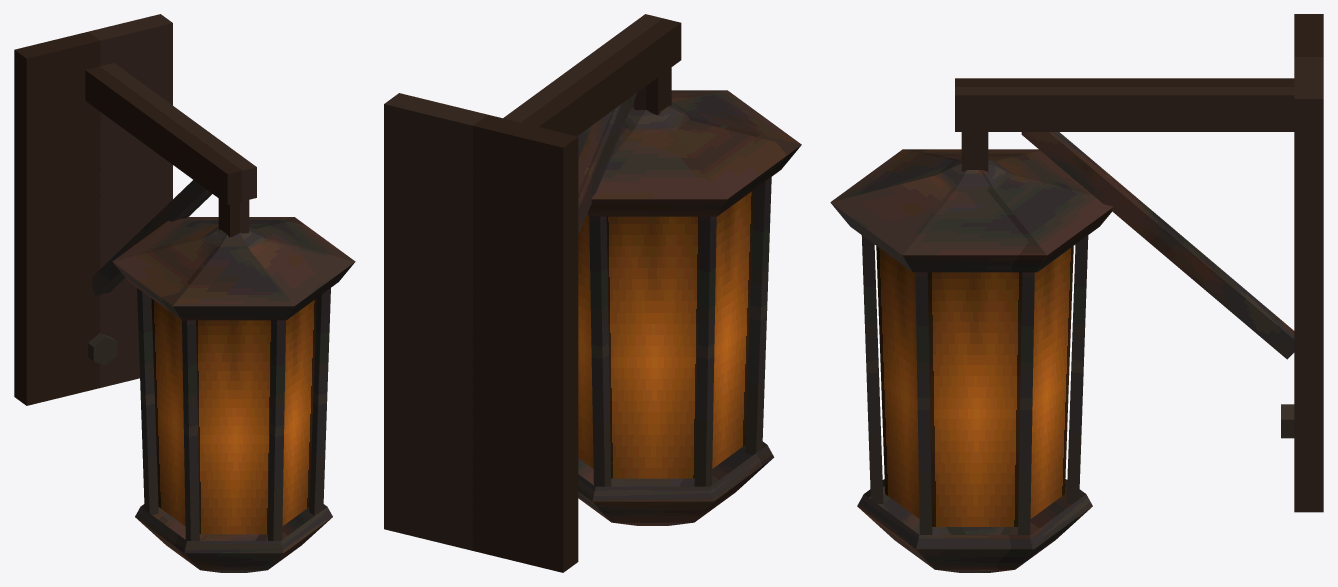
Rendered from WallLantern.fbx.
The picture shows the model from 3 angles, left to right: view 1: azimuth 30°, elevation 25°; view 2: azimuth 150°, elevation 25°; view 3: azimuth 270°, elevation 25°; orthographic projection. The views are drawn at different scales.
Visible parts, largest first — view 1: WallLantern; view 2: WallLantern; view 3: WallLantern.
Boxes of the visible parts, left/top/right/bottom form: WallLantern: left=14, top=14, right=355, bottom=572; WallLantern: left=384, top=14, right=801, bottom=572; WallLantern: left=830, top=14, right=1323, bottom=572.
Size of the model in its own units: 0.1871 by 0.416 by 0.368.
